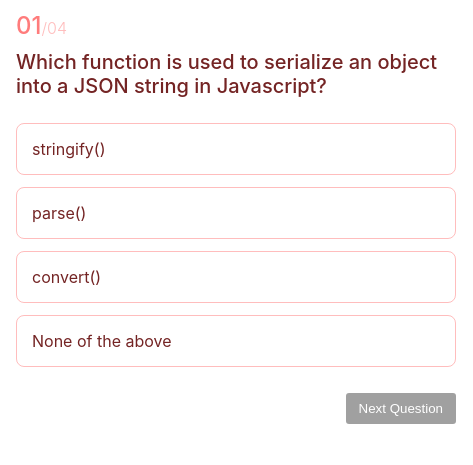
Test: Questions › should show "Finish" text in the button instead of "Next" in last question
Step 1. Click the list item "stringify()" → x=236, y=149, box x1=16 y1=123 x2=456 y2=175
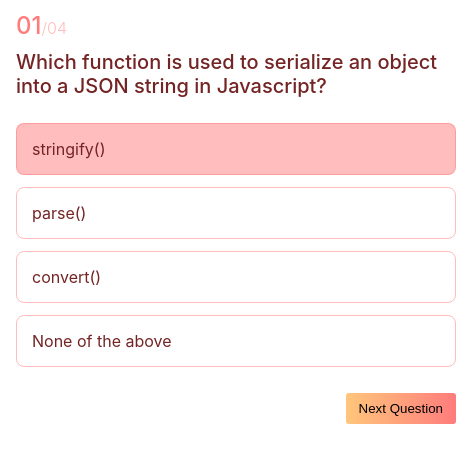
Step 2. Click the button "Next Question" → x=401, y=408, box x1=346 y1=393 x2=456 y2=424
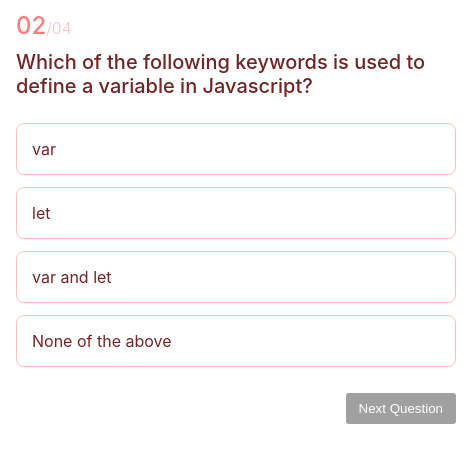
Step 3. Click the list item "var" → x=236, y=149, box x1=16 y1=123 x2=456 y2=175
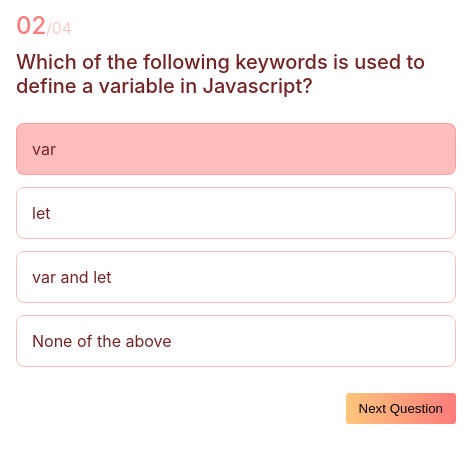
Step 4. Click the button "Next Question" → x=401, y=408, box x1=346 y1=393 x2=456 y2=424
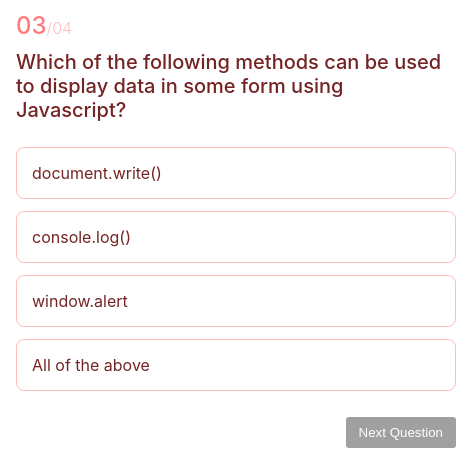
Step 5. Click the list item "document.write()" → x=236, y=173, box x1=16 y1=147 x2=456 y2=199
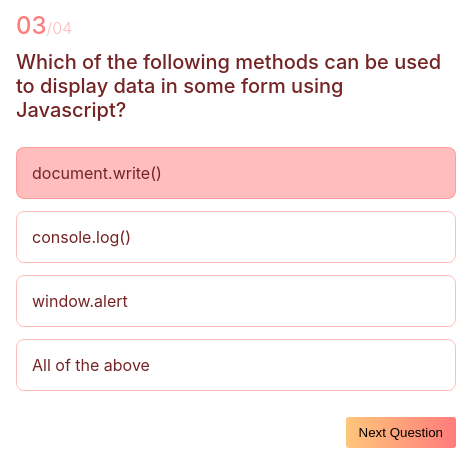
Step 6. Click the button "Next Question" → x=401, y=432, box x1=346 y1=417 x2=456 y2=448
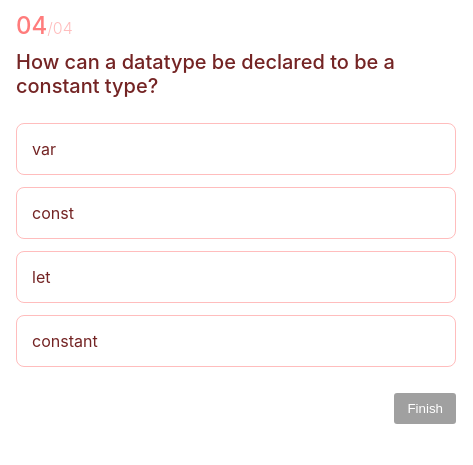
Check: the button named "next question" reads "Finish", box x1=394 y1=393 x2=456 y2=424
